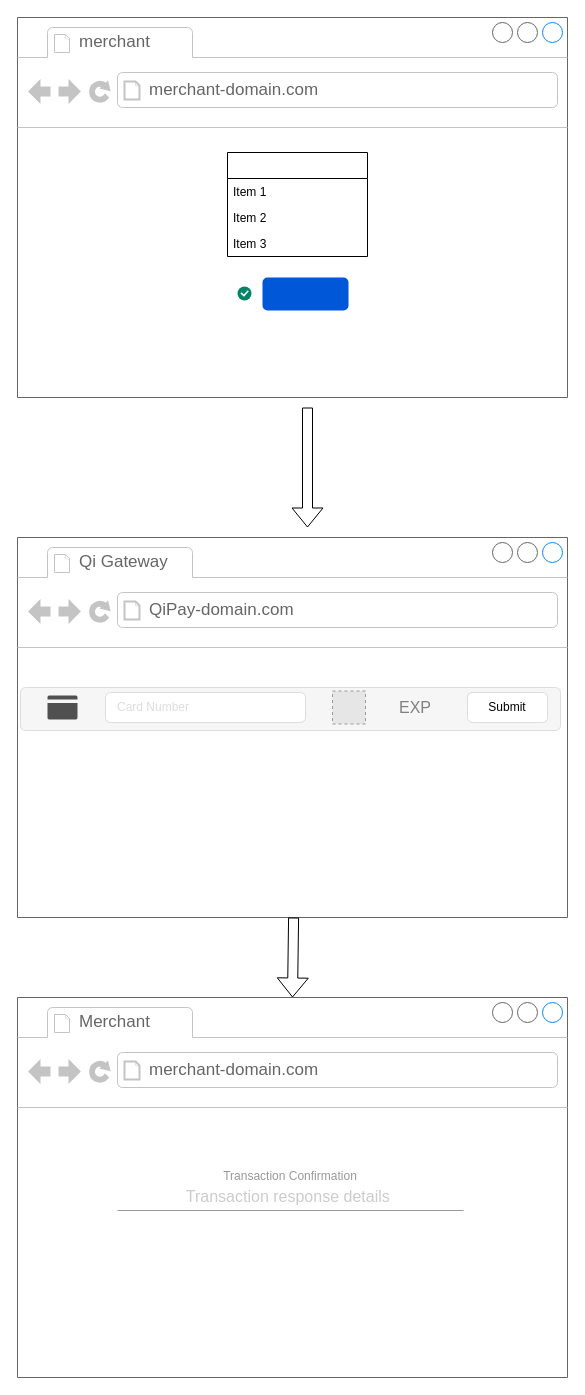
The diagram is 585 pixels wide and 1395 high, and some of its shapes have lost their labels. Grey dashed boxes stand in for pictures. The shapes that lost their labels are listed below. From the top down, each one's box as (x1, y1, x2, y2) in pixels, then its label:
(226, 152, 368, 256): Order Details
(262, 277, 348, 310): Pay now
